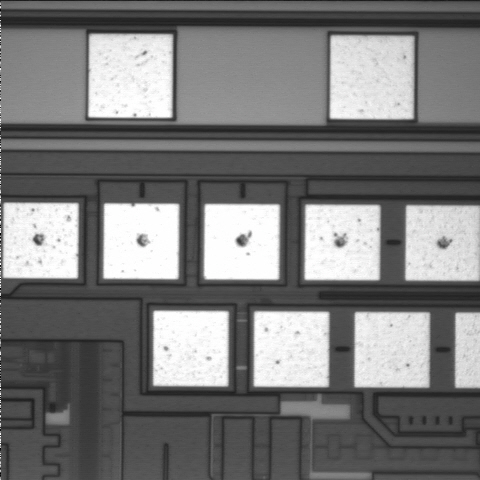pad: (88, 34, 173, 118), (330, 36, 414, 119), (3, 203, 79, 279), (103, 203, 179, 279), (204, 204, 280, 280), (304, 205, 380, 280), (153, 311, 229, 386), (254, 311, 329, 387), (354, 312, 430, 387)
